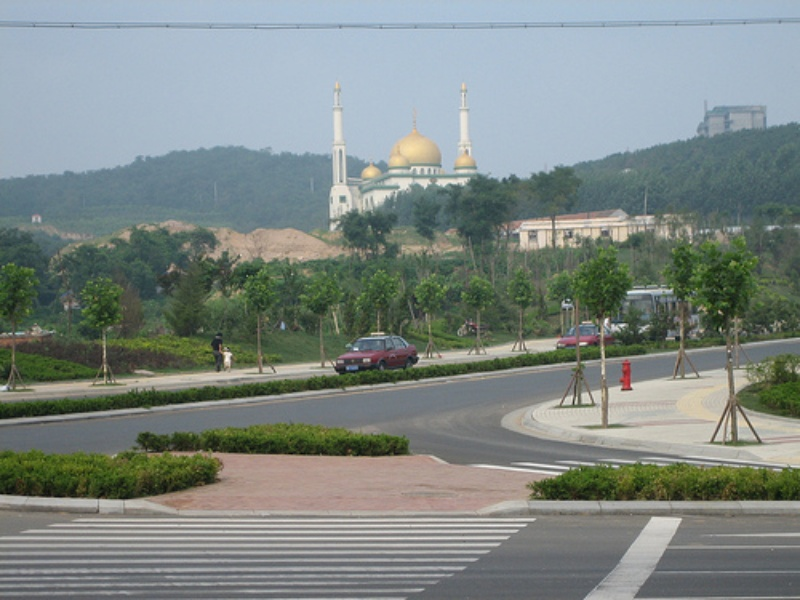car: (618, 288, 702, 337), (333, 330, 419, 372), (556, 321, 615, 350)
person: (210, 332, 224, 374), (220, 346, 237, 373)
